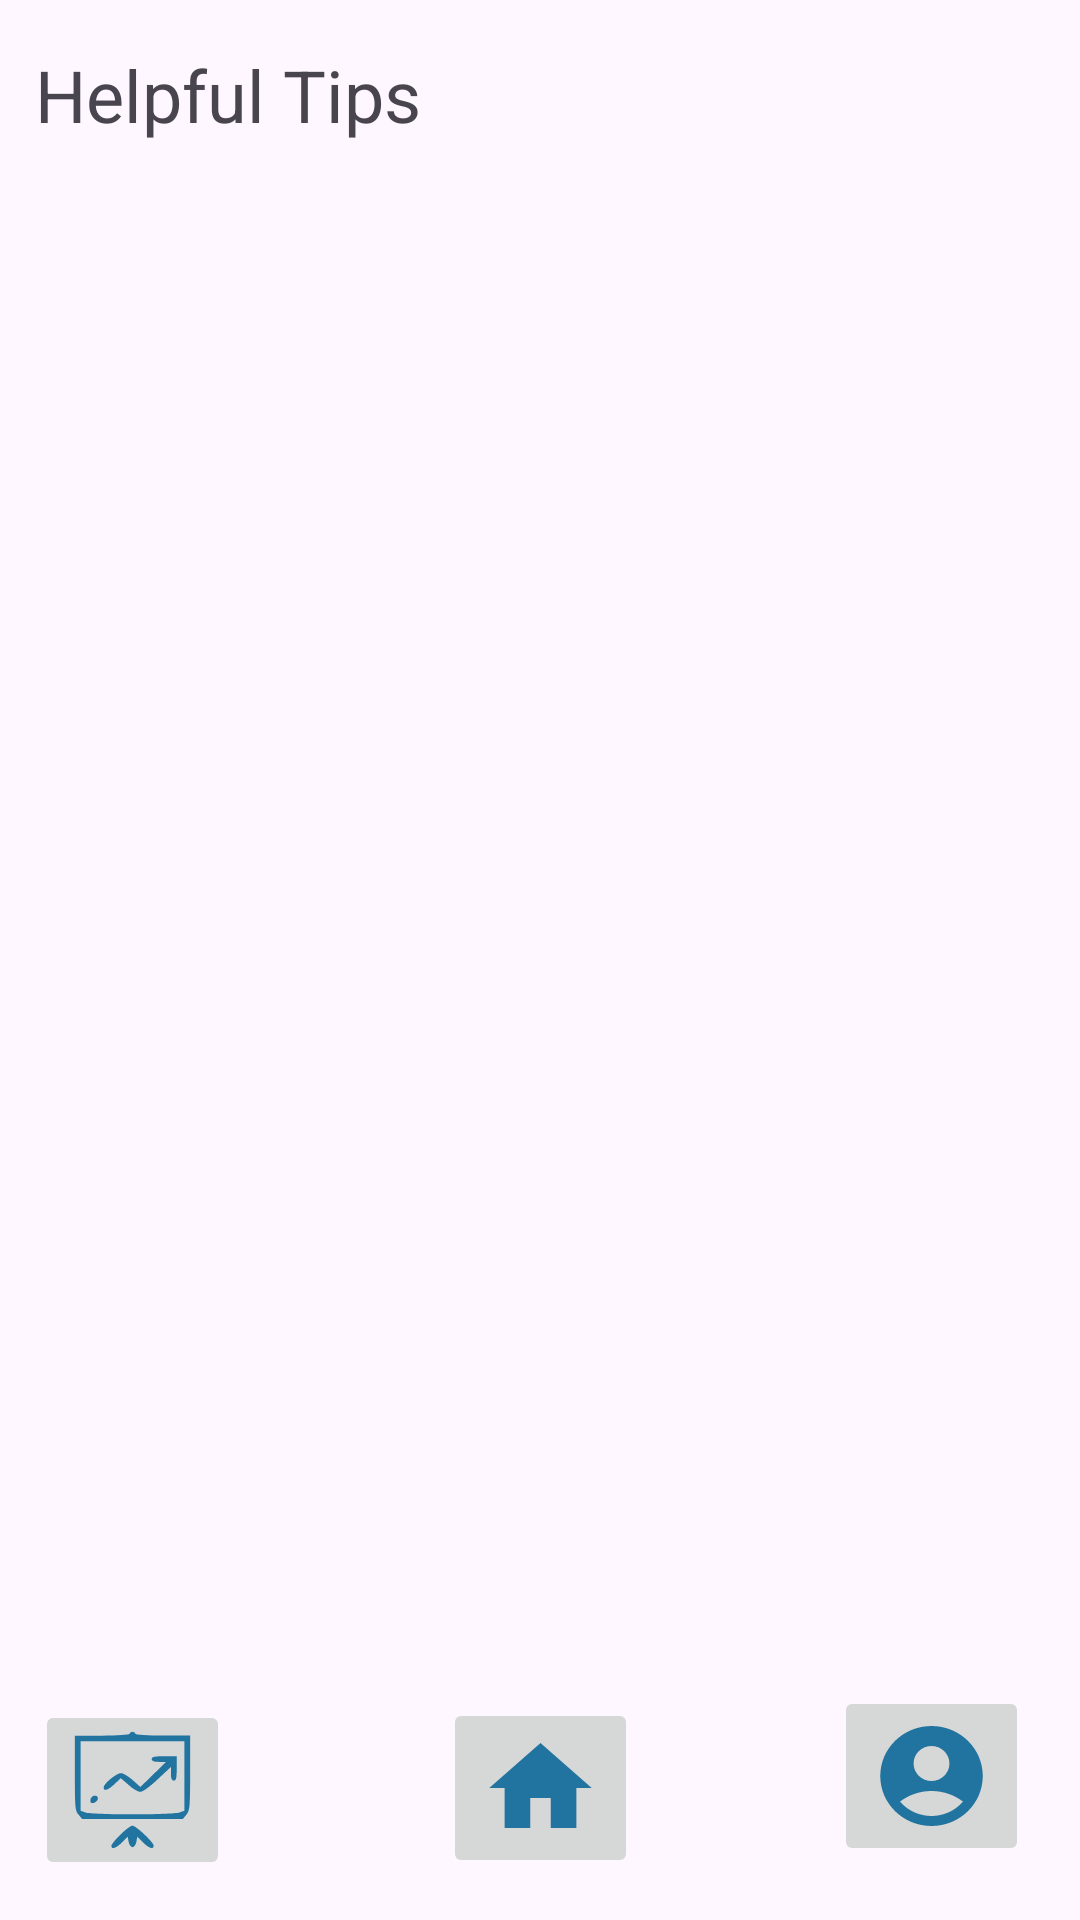

Where to tap for icons on this 1080w x 1920h app screen, as (x,y):
account circle: (931,1776)
home: (540,1788)
statistics: (132,1790)
